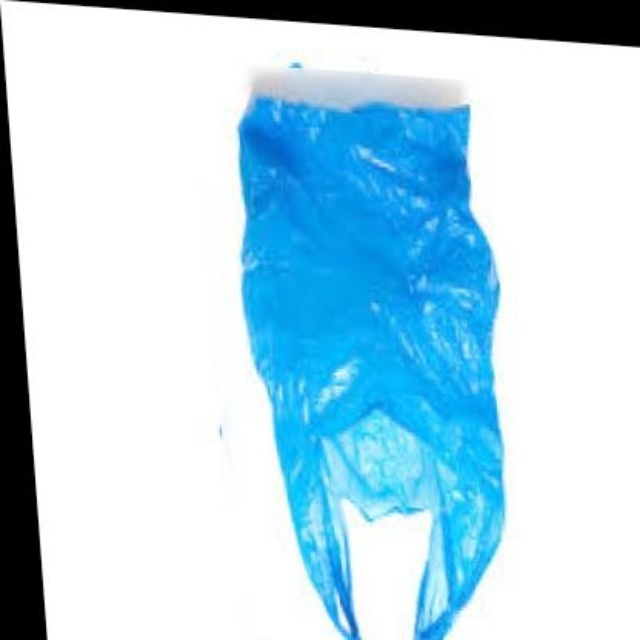trash: (240, 74, 502, 638)
